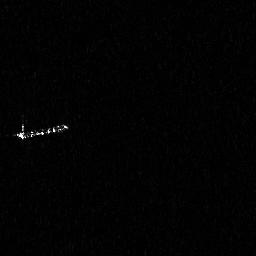ship: (10, 122, 73, 145)
